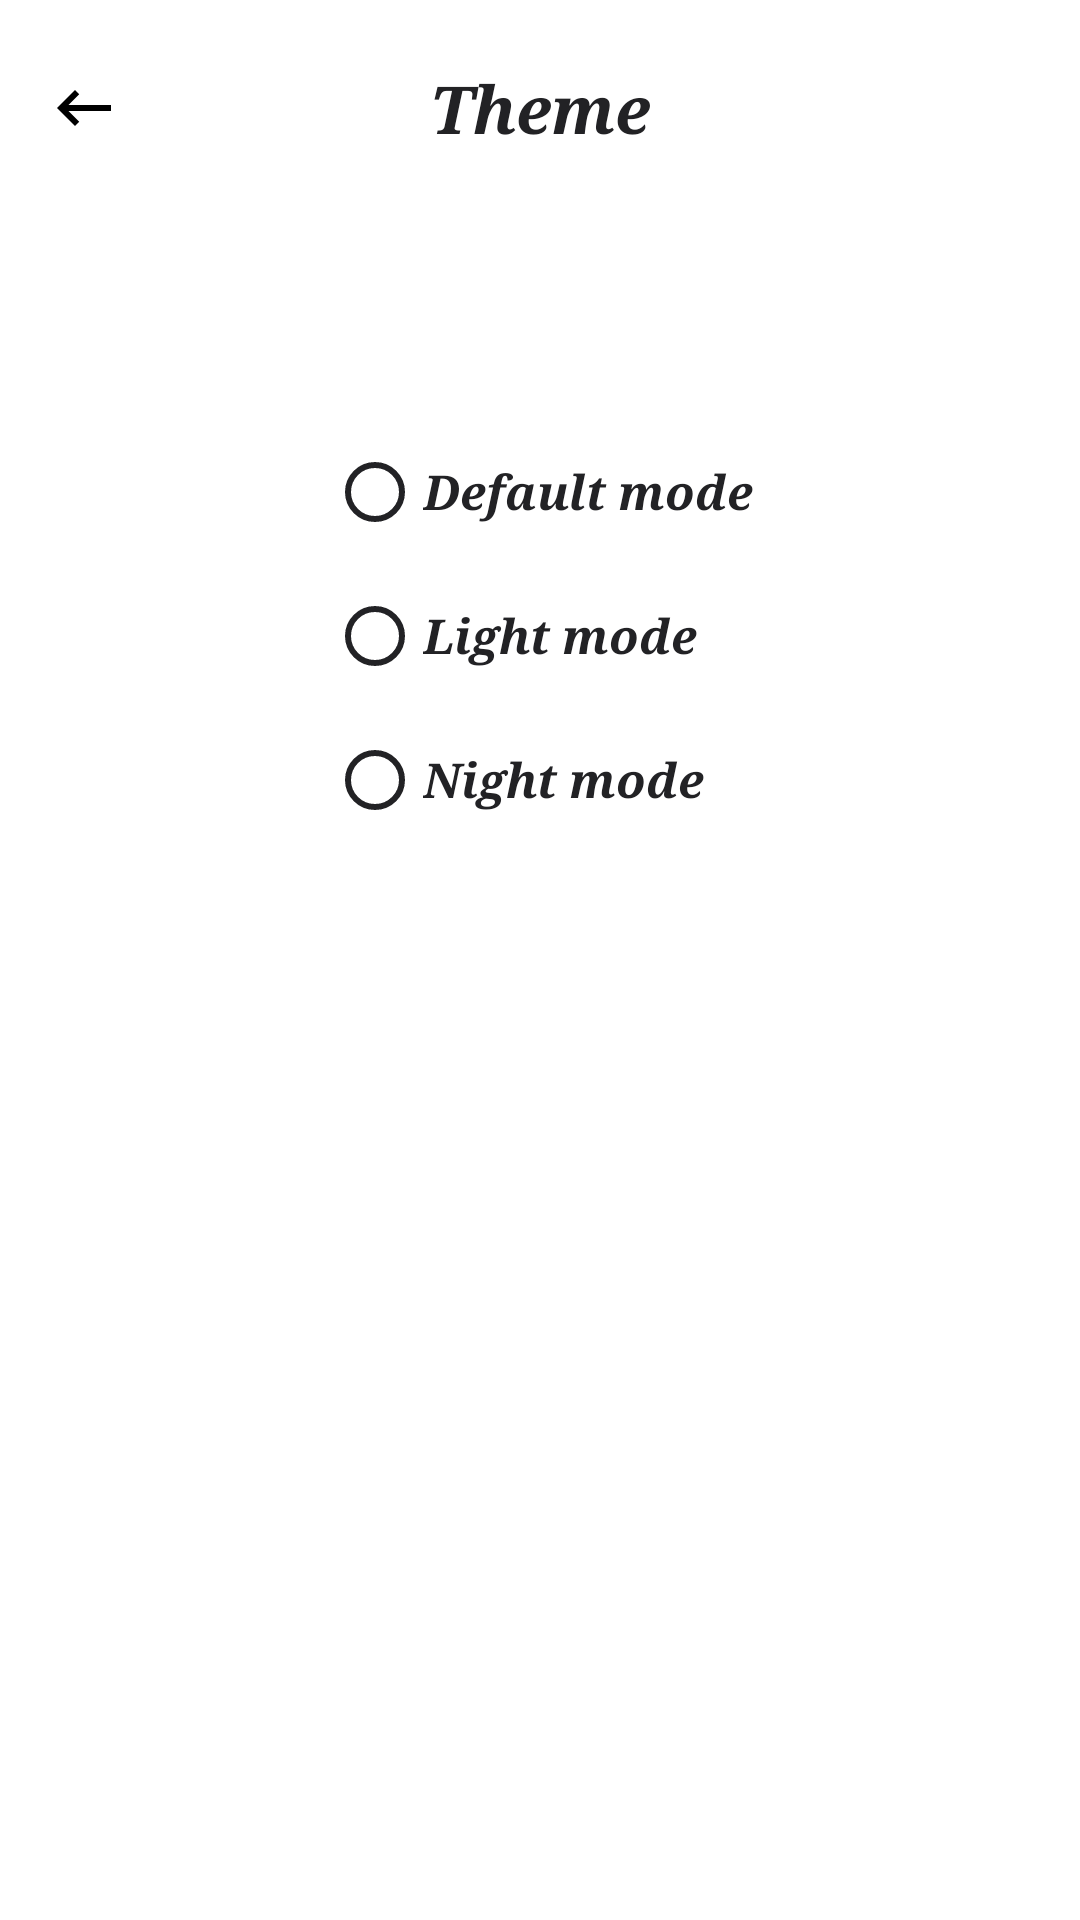

Named icons in this screenshot (1080px×1920px) and their centers, point (x, y):
back: point (84, 108)
